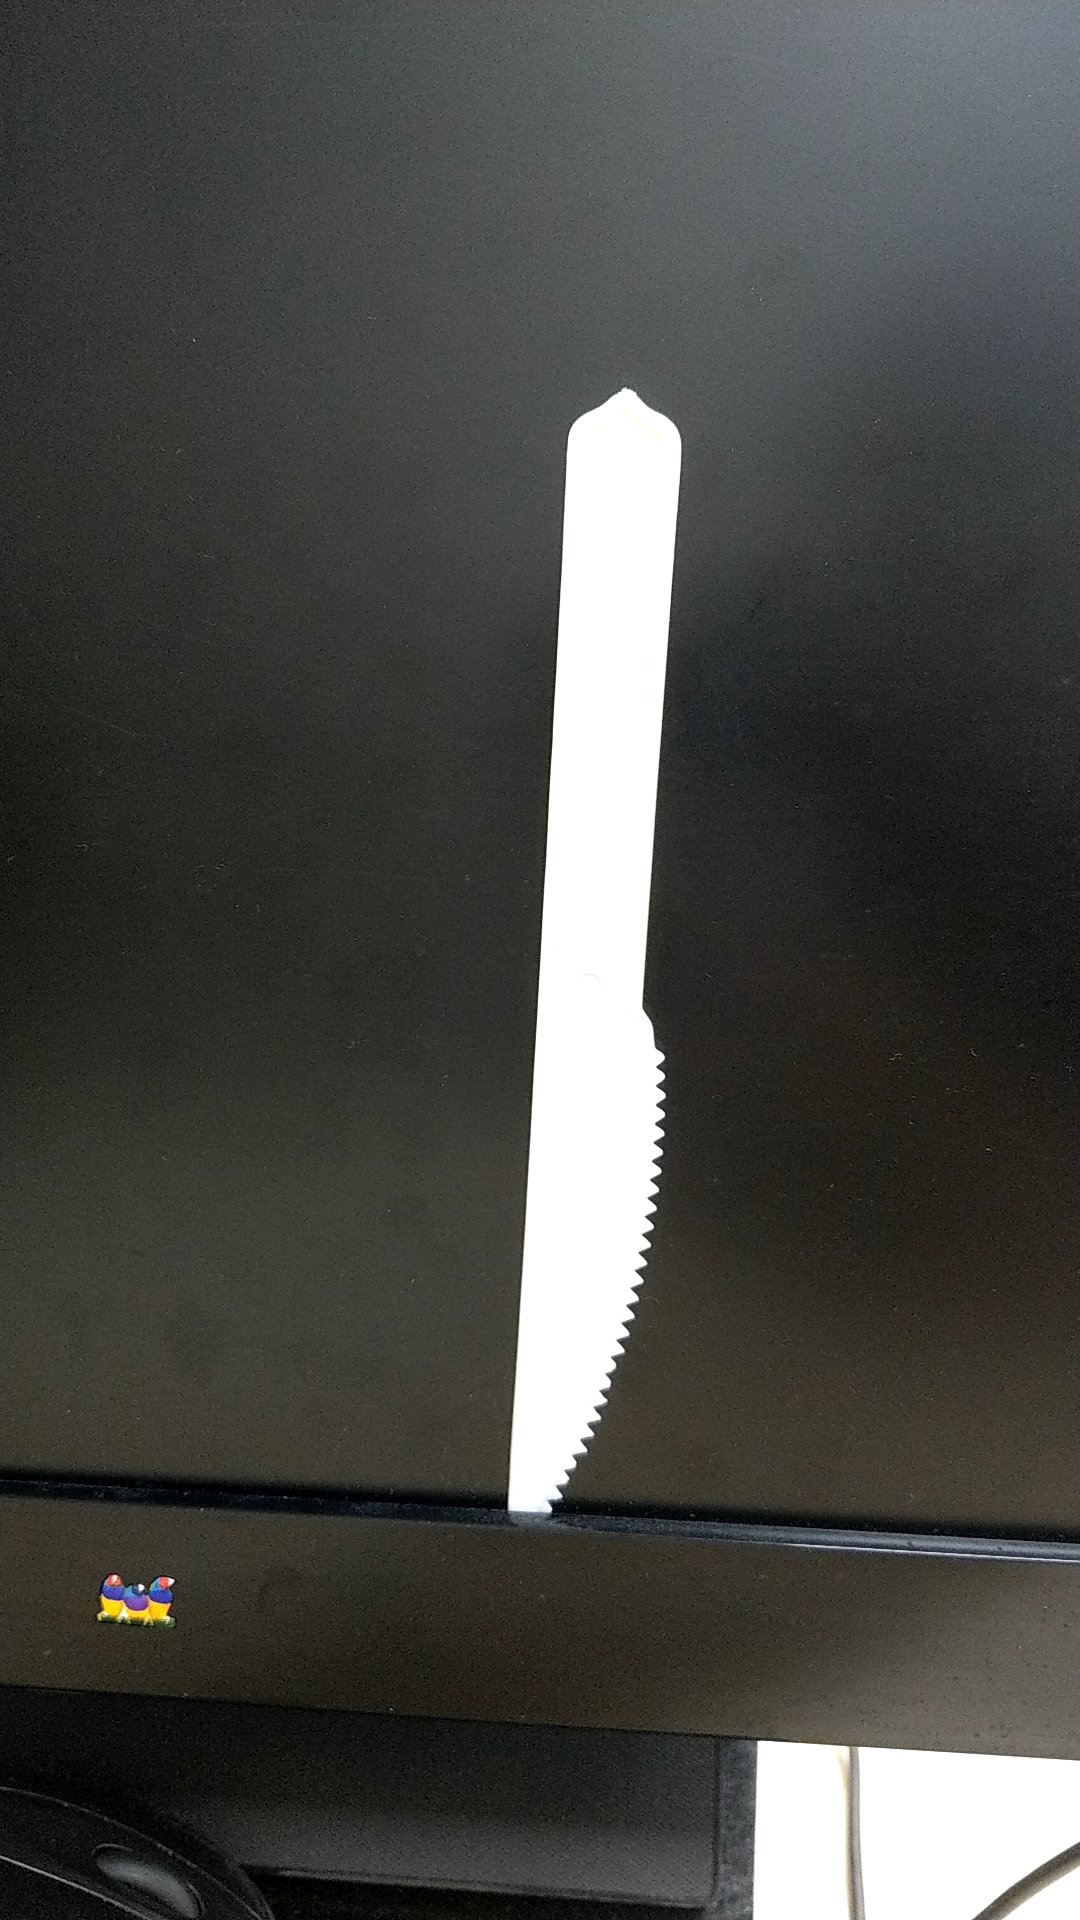knife: (509, 364, 687, 1524)
